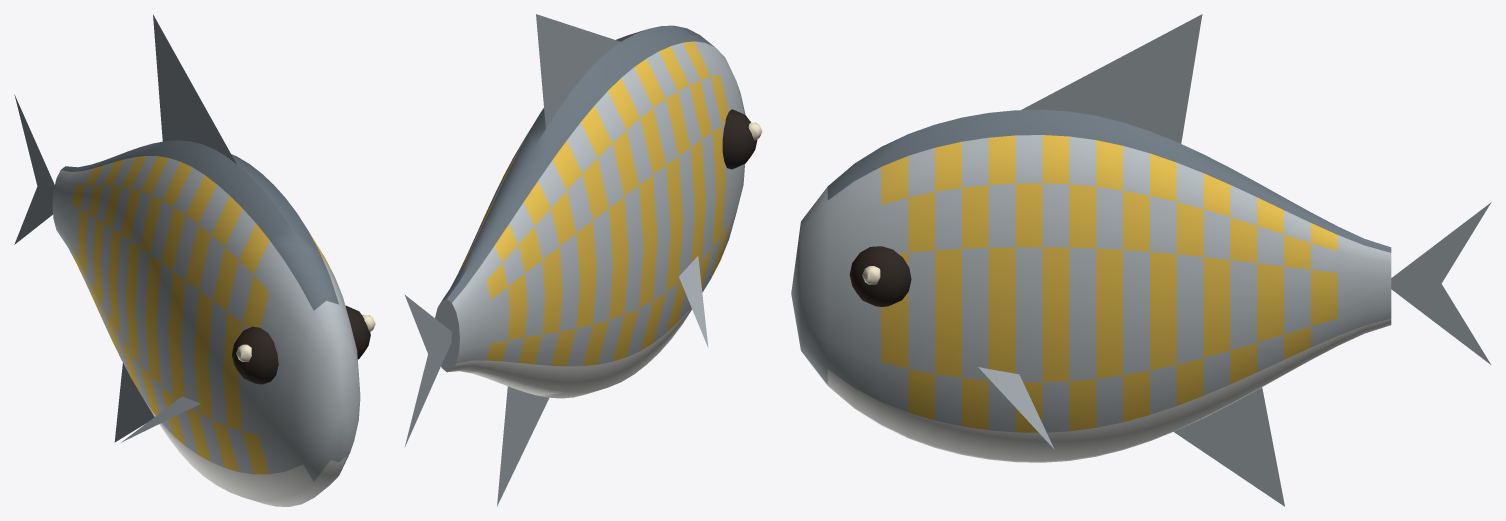
The model's file is gilthead.fbx.
3 views of the same model, side by side, from view 1: azimuth 30°, elevation 25°; view 2: azimuth 150°, elevation 25°; view 3: azimuth 270°, elevation 25° (orthographic). The views are drawn at different scales.
Visible parts, largest first — view 1: Fish_gilthead_EXP; view 2: Fish_gilthead_EXP; view 3: Fish_gilthead_EXP.
Part boxes in pixels (bbox=[...]): Fish_gilthead_EXP: bbox=[14, 14, 375, 506]; Fish_gilthead_EXP: bbox=[404, 14, 762, 506]; Fish_gilthead_EXP: bbox=[791, 14, 1491, 506].
Bounding box in the file's own units: 0.171 × 0.3685 × 0.4746.
